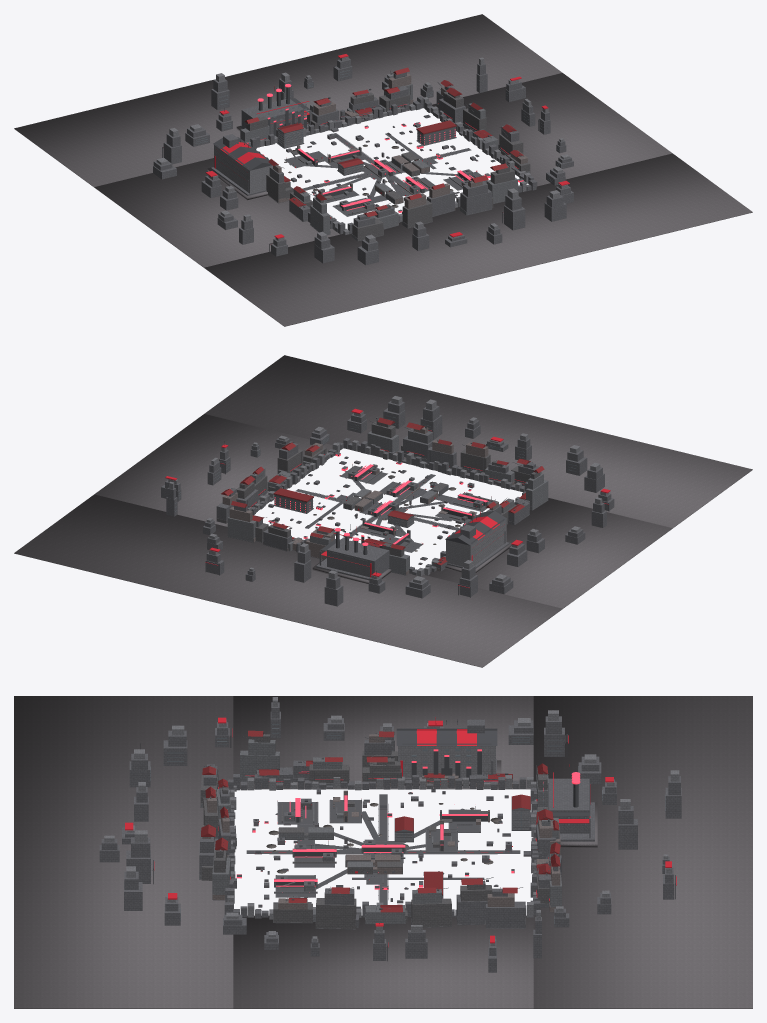
3 views of the same model, one above another, from view 1: azimuth 30°, elevation 25°; view 2: azimuth 150°, elevation 25°; view 3: azimuth 270°, elevation 25° (orthographic). The views are drawn at different scales.
Parts seen in each view (by area): view 1: HB_z06_LOD0_terrain, HB_z06_LOD0_wall_alt, HB_z06_LOD0_wall_weathered, HB_z06_LOD0_wall, HB_z06_LOD0_wall_cool, HB_z06_LOD0_road, HB_z06_LOD0_trim, HB_z06_LOD0_roof, HB_z06_LOD0_wall_warm, HB_z06_LOD0_LANDMARK_1_wall, HB_z06_LOD0_LANDMARK_0_wall_alt, HB_z06_LOD0_emissive (+3 smaller); view 2: HB_z06_LOD0_terrain, HB_z06_LOD0_wall_alt, HB_z06_LOD0_wall_cool, HB_z06_LOD0_wall_weathered, HB_z06_LOD0_wall, HB_z06_LOD0_road, HB_z06_LOD0_roof, HB_z06_LOD0_trim, HB_z06_LOD0_wall_warm, HB_z06_LOD0_LANDMARK_0_wall_alt, HB_z06_LOD0_LANDMARK_1_wall, HB_z06_LOD0_emissive (+2 smaller); view 3: HB_z06_LOD0_terrain, HB_z06_LOD0_wall_alt, HB_z06_LOD0_wall_weathered, HB_z06_LOD0_road, HB_z06_LOD0_wall, HB_z06_LOD0_wall_cool, HB_z06_LOD0_roof, HB_z06_LOD0_trim, HB_z06_LOD0_wall_warm, HB_z06_LOD0_LANDMARK_1_wall, HB_z06_LOD0_LANDMARK_0_wall_alt, HB_z06_LOD0_LANDMARK_1_trim (+4 smaller).
Boxes of the visible parts, x1,y1,x2,y2 form: HB_z06_LOD0_terrain: (14,14,752,326); HB_z06_LOD0_wall_alt: (153,58,573,265); HB_z06_LOD0_wall_weathered: (246,91,530,240); HB_z06_LOD0_wall: (156,56,569,243); HB_z06_LOD0_wall_cool: (240,83,529,240); HB_z06_LOD0_road: (285,133,487,216); HB_z06_LOD0_trim: (162,66,555,252); HB_z06_LOD0_roof: (245,67,523,218); HB_z06_LOD0_wall_warm: (273,73,527,224); HB_z06_LOD0_LANDMARK_1_wall: (214,145,272,193); HB_z06_LOD0_LANDMARK_0_wall_alt: (240,99,311,134); HB_z06_LOD0_emissive: (298,122,523,212); HB_z06_LOD0_terrain: (14,355,752,667); HB_z06_LOD0_wall_alt: (161,401,614,606); HB_z06_LOD0_wall_cool: (227,431,548,574); HB_z06_LOD0_wall_weathered: (216,419,541,556); HB_z06_LOD0_wall: (168,396,608,583); HB_z06_LOD0_road: (273,466,495,552); HB_z06_LOD0_roof: (221,417,544,565); HB_z06_LOD0_trim: (205,420,609,597); HB_z06_LOD0_wall_warm: (222,427,514,574); HB_z06_LOD0_LANDMARK_0_wall_alt: (316,539,389,580); HB_z06_LOD0_LANDMARK_1_wall: (446,520,506,566); HB_z06_LOD0_emissive: (268,454,488,544); HB_z06_LOD0_terrain: (14,696,752,1008); HB_z06_LOD0_wall_alt: (99,702,681,972); HB_z06_LOD0_wall_weathered: (200,734,559,928); HB_z06_LOD0_road: (246,794,520,904); HB_z06_LOD0_wall: (104,697,679,945); HB_z06_LOD0_wall_cool: (199,739,561,923); HB_z06_LOD0_roof: (201,730,560,912); HB_z06_LOD0_trim: (140,727,675,961); HB_z06_LOD0_wall_warm: (202,734,560,912); HB_z06_LOD0_LANDMARK_1_wall: (398,746,495,777); HB_z06_LOD0_LANDMARK_0_wall_alt: (547,778,594,841); HB_z06_LOD0_LANDMARK_1_trim: (396,719,497,781).
Size of the model in its own units: 708 by 66.46 by 708.
14 materials, 12 textured.
